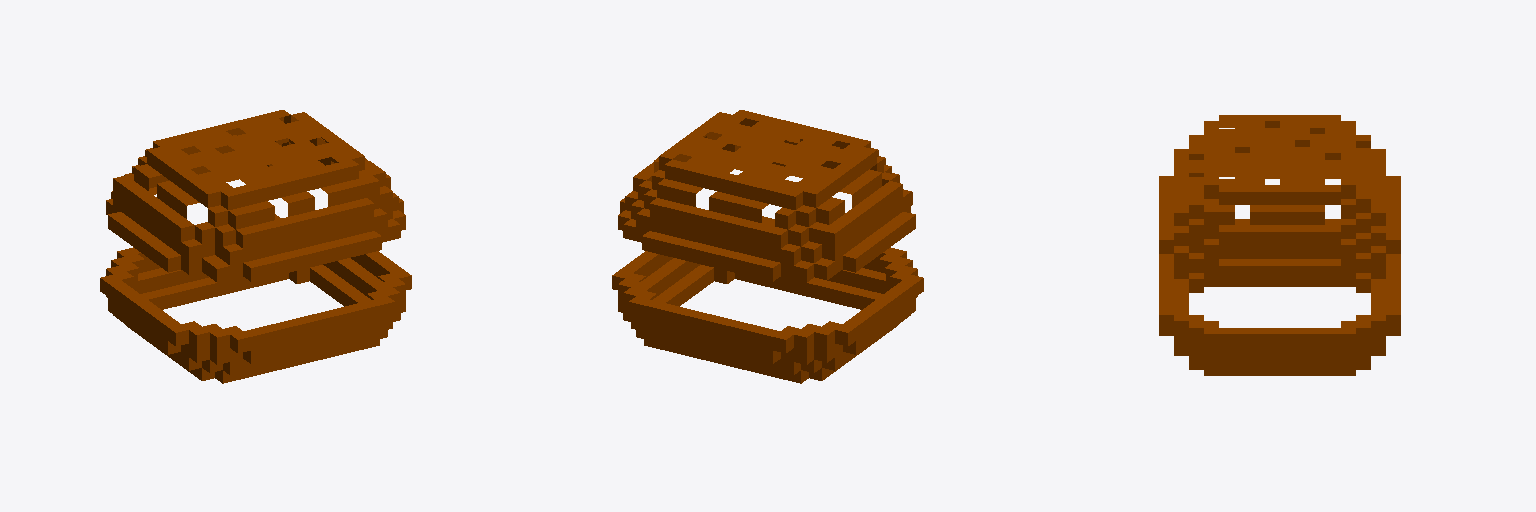
3 views of the same model, side by side, from view 1: azimuth 30°, elevation 25°; view 2: azimuth 150°, elevation 25°; view 3: azimuth 270°, elevation 25° (orthographic).
Visible parts, largest first — view 1: object 1; view 2: object 1; view 3: object 1.
Boxes of the visible parts, x1=… form: object 1: x1=100, y1=110, x2=411, y2=383; object 1: x1=612, y1=110, x2=923, y2=383; object 1: x1=1159, y1=115, x2=1400, y2=375.
Bounding box in the file's own units: 2 × 1.5 × 2.
1 materials, 1 textured.